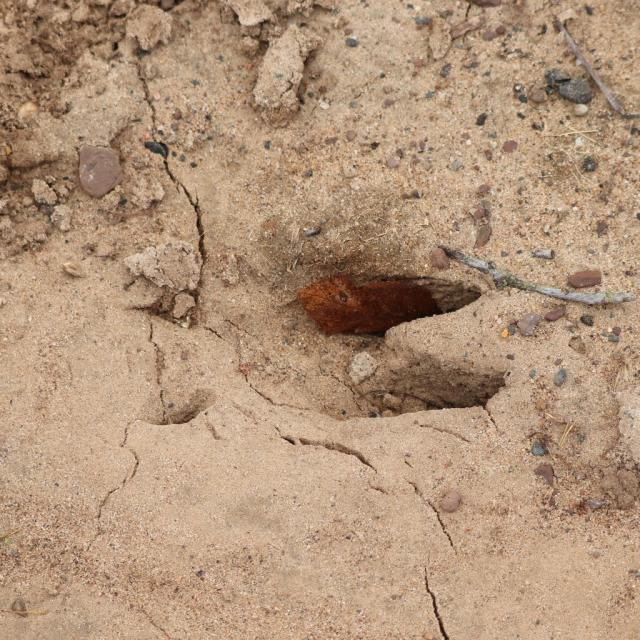deer: (292, 267, 506, 418)
